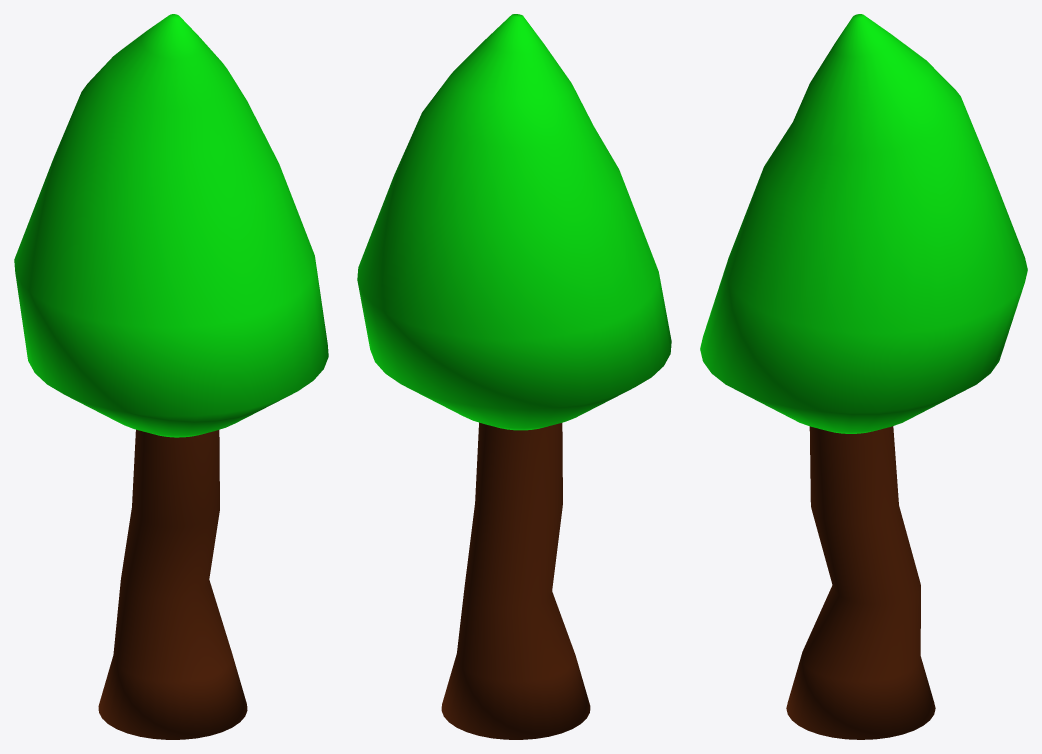
The model's file is Tree.fbx.
The picture shows the model from 3 angles, left to right: view 1: azimuth 30°, elevation 25°; view 2: azimuth 150°, elevation 25°; view 3: azimuth 270°, elevation 25°; orthographic projection.
Visible parts, largest first — view 1: Tree; view 2: Tree; view 3: Tree.
Boxes of the visible parts, x1,y1,x2,y2 form: Tree: (14, 14, 328, 739); Tree: (357, 14, 671, 739); Tree: (700, 14, 1027, 739).
Size of the model in its own units: 507 by 1281 by 550.
